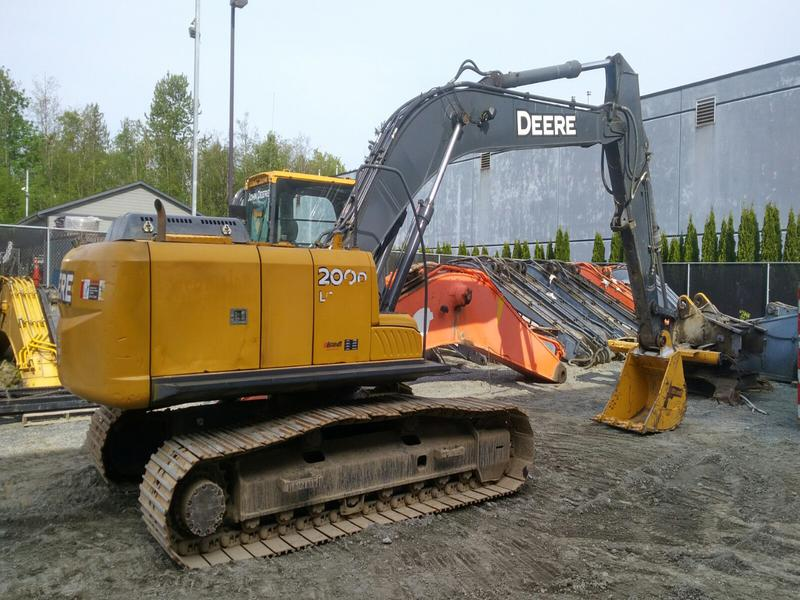shovel: (66, 49, 688, 577)
